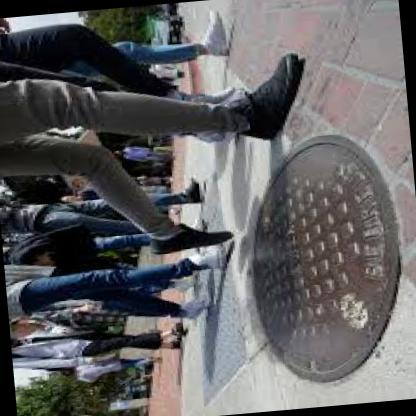manholes: (196, 113, 416, 399)
